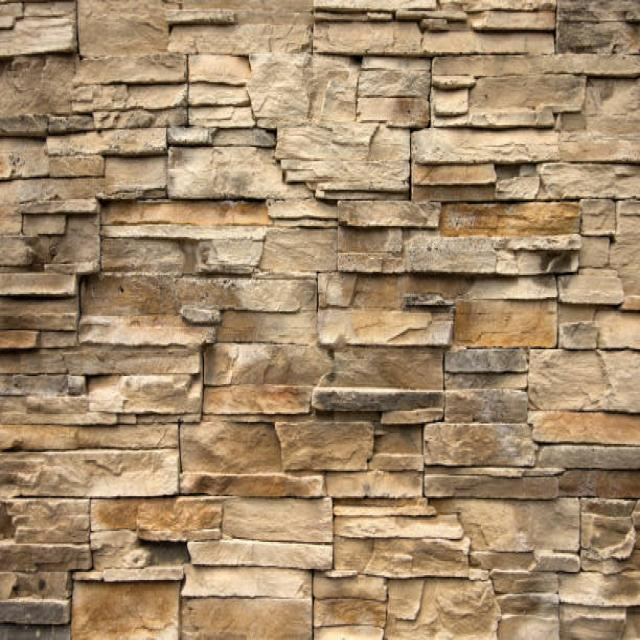Sedimentary: (1, 3, 640, 634)
